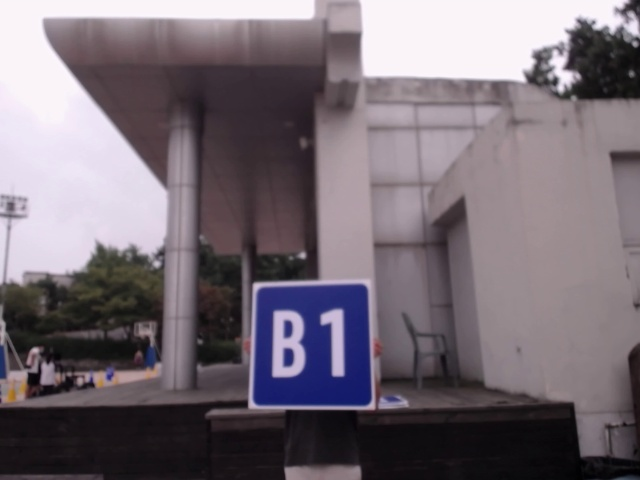delivery_b1: (250, 282, 375, 408)
